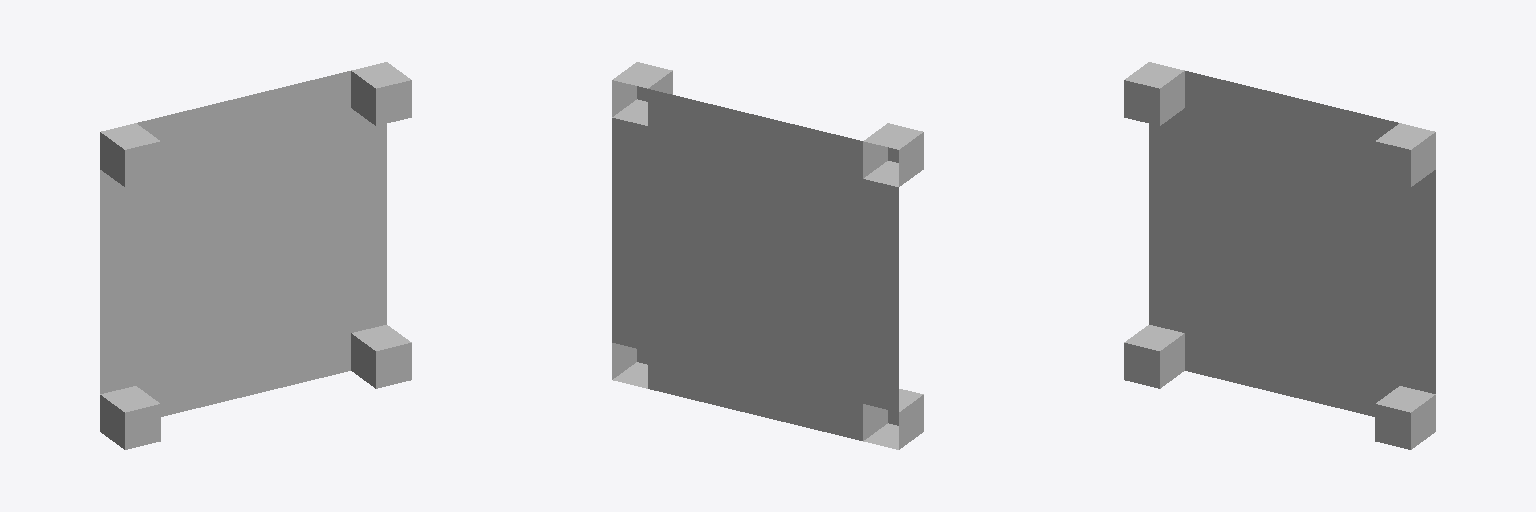
The model's file is thing.obj.
The picture shows the model from 3 angles: view 1: azimuth 30°, elevation 25°; view 2: azimuth 150°, elevation 25°; view 3: azimuth 330°, elevation 25°; orthographic projection.
Bounding box in the file's own units: 1 × 1 × 0.15.